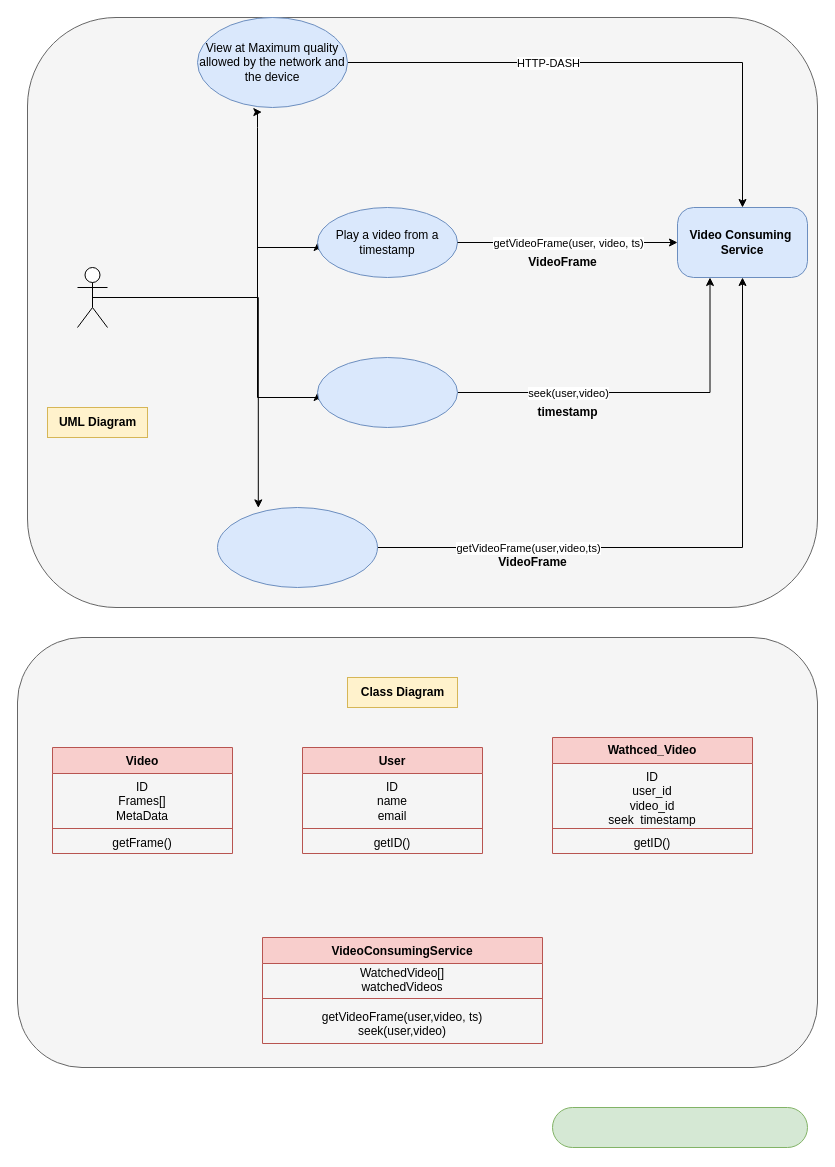
This 835x1167 diagram has some shape labels left out. The centre of each missing label's shape, as x and y in pixels:
"- Aniruddha Kotal" goes at (680,1127).
"Actor" goes at (92,297).
"Go back to a video and watch from left-off timestamp" goes at (387,392).
"Have non stop play when watching videos (Buffering)" goes at (297,547).
